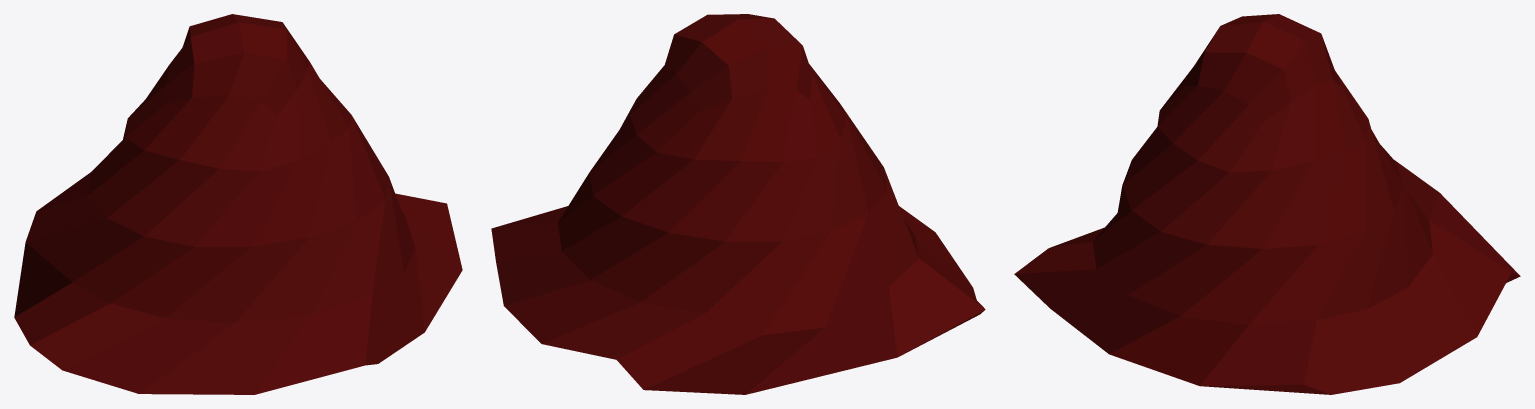
The model's file is Poop.fbx.
The picture shows the model from 3 angles, left to right: view 1: azimuth 30°, elevation 25°; view 2: azimuth 150°, elevation 25°; view 3: azimuth 270°, elevation 25°; orthographic projection.
Visible parts, largest first — view 1: Cube; view 2: Cube; view 3: Cube.
Boxes of the visible parts, box(x1,y1,x2,y2) form: Cube: box(14, 14, 462, 394); Cube: box(491, 14, 985, 394); Cube: box(1014, 14, 1520, 394).
Bounding box in the file's own units: 55 × 34.75 × 52.9.
